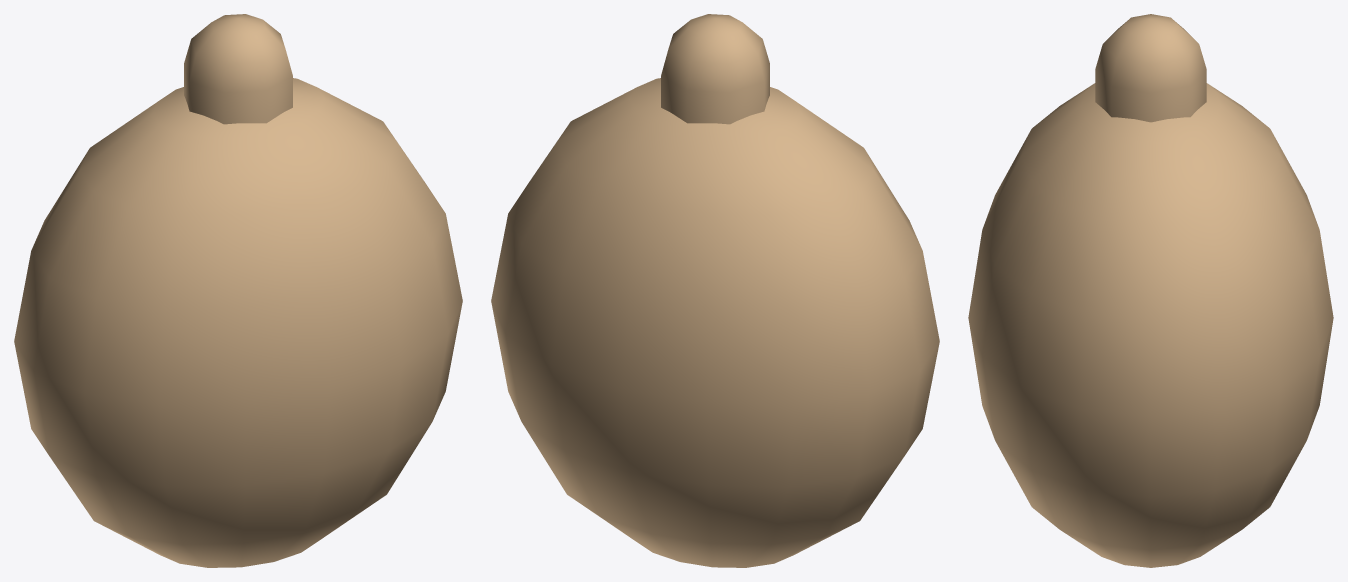
File: sack.glb
3 views of the same model, side by side, from view 1: azimuth 30°, elevation 25°; view 2: azimuth 150°, elevation 25°; view 3: azimuth 270°, elevation 25° (orthographic).
Parts seen in each view (by area): view 1: Bag, Tied_neck; view 2: Bag, Tied_neck; view 3: Bag, Tied_neck.
Part boxes in pixels (x1=…): Bag: x1=14, y1=78, x2=462, y2=567; Tied_neck: x1=184, y1=14, x2=292, y2=124; Bag: x1=491, y1=78, x2=939, y2=567; Tied_neck: x1=661, y1=14, x2=769, y2=124; Bag: x1=968, y1=83, x2=1333, y2=567; Tied_neck: x1=1095, y1=14, x2=1206, y2=122.
Bounding box in the file's own units: 0.46 × 0.575 × 0.36.
